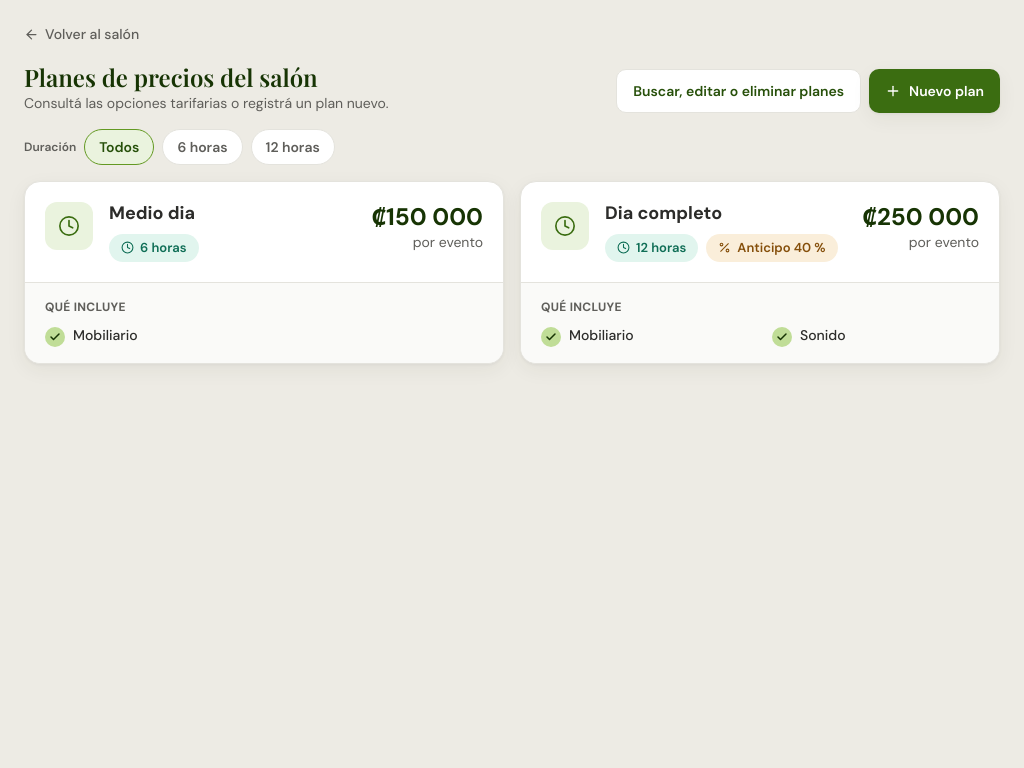
it: HU-008 registrar un plan › corregir un campo le quita su error
Step 1. Click the button "Nuevo plan" → [935, 90], box 869,68 -> 1000,112
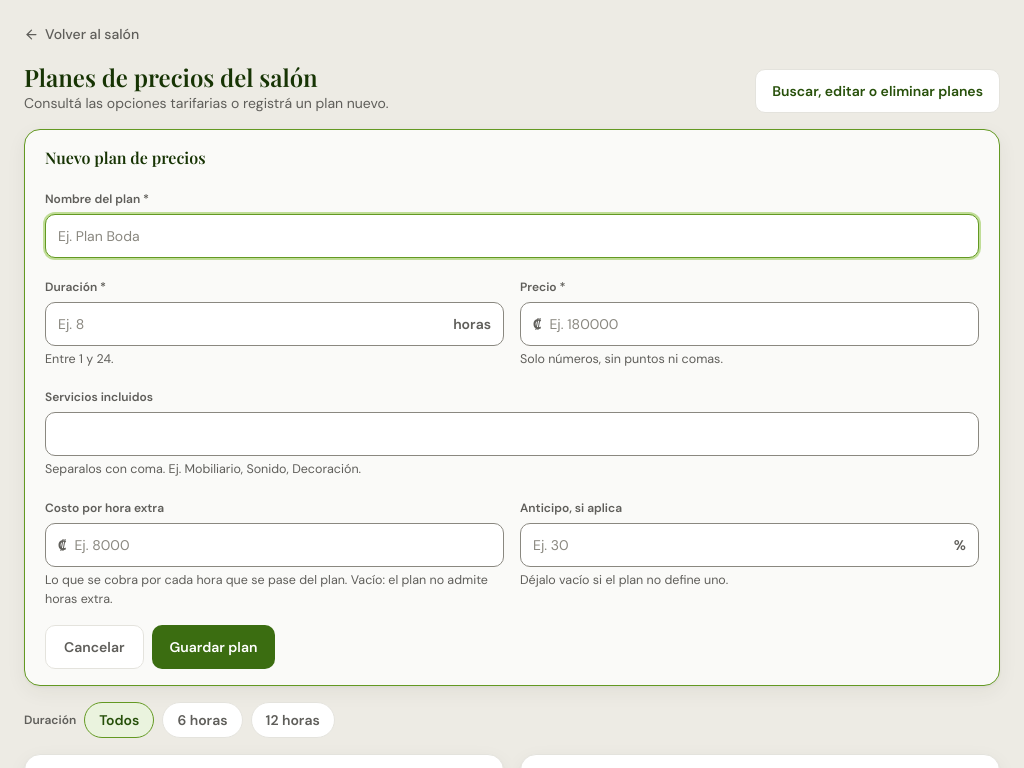
Step 2. Click the button "Guardar plan" → [213, 646], box 152,624 -> 275,668
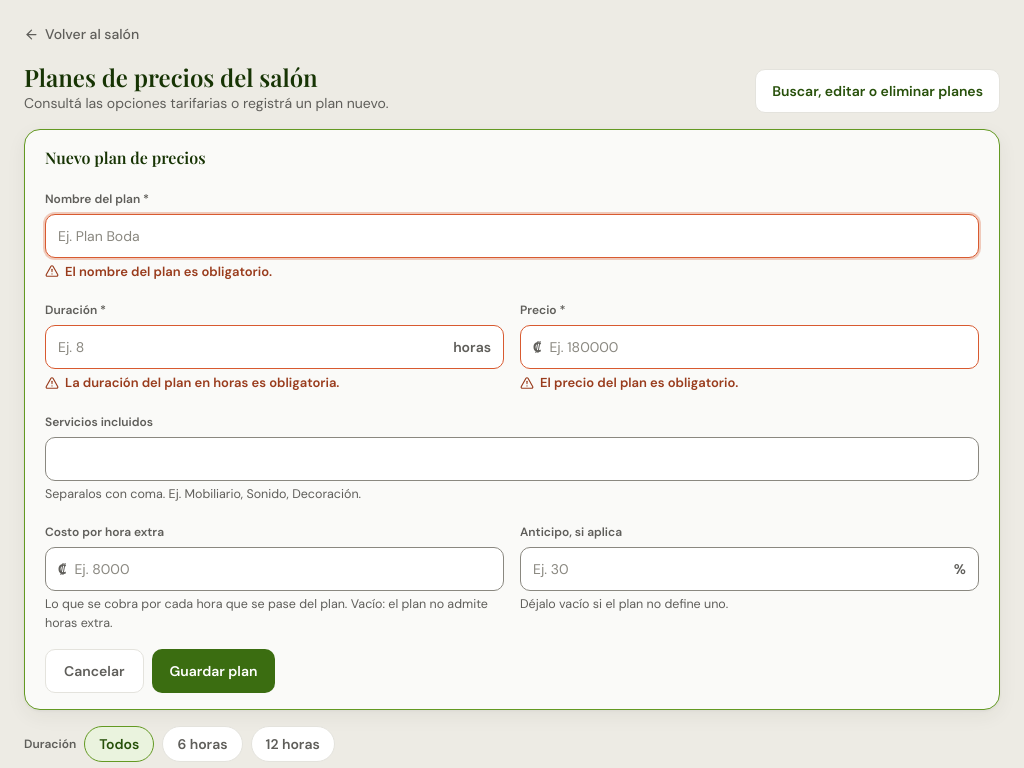
Expected: the text "El nombre del plan es obligatorio." is shown, 45,262 -> 272,280
Step 3. Type "Plan Boda" into the field labelled "Nombre del plan *" → [512, 236], box 58,226 -> 966,246
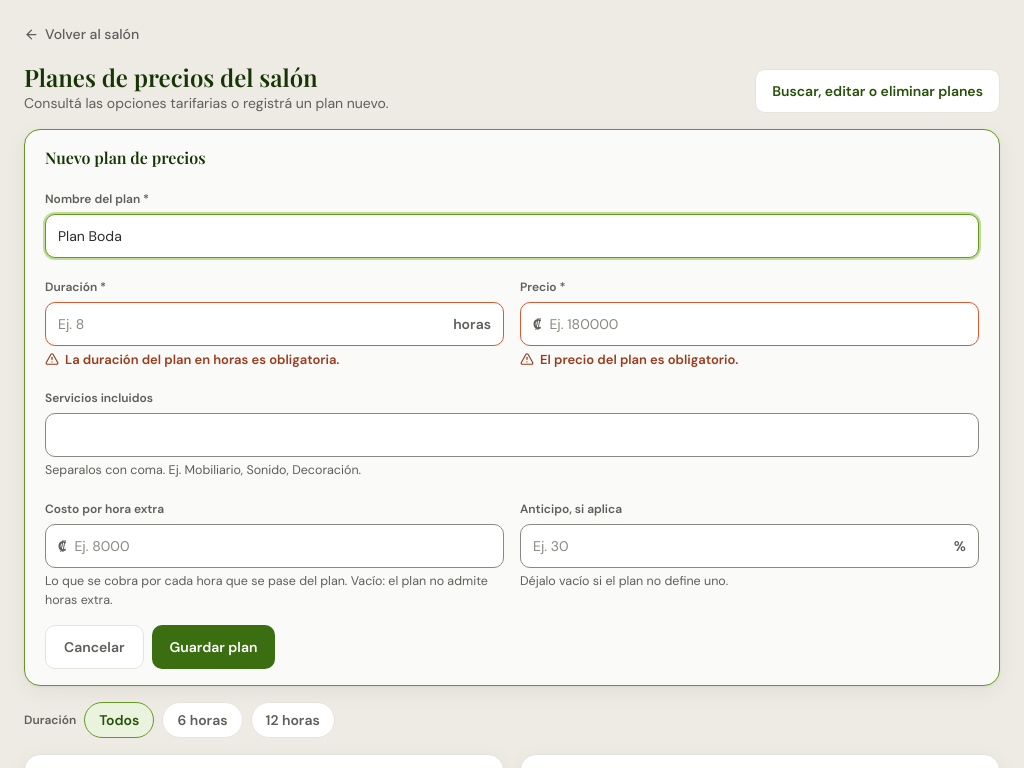
Expected: the text "El precio del plan es obligatorio." is shown, 520,350 -> 738,368
Expected: the text "El nombre del plan es obligatorio." is gone
